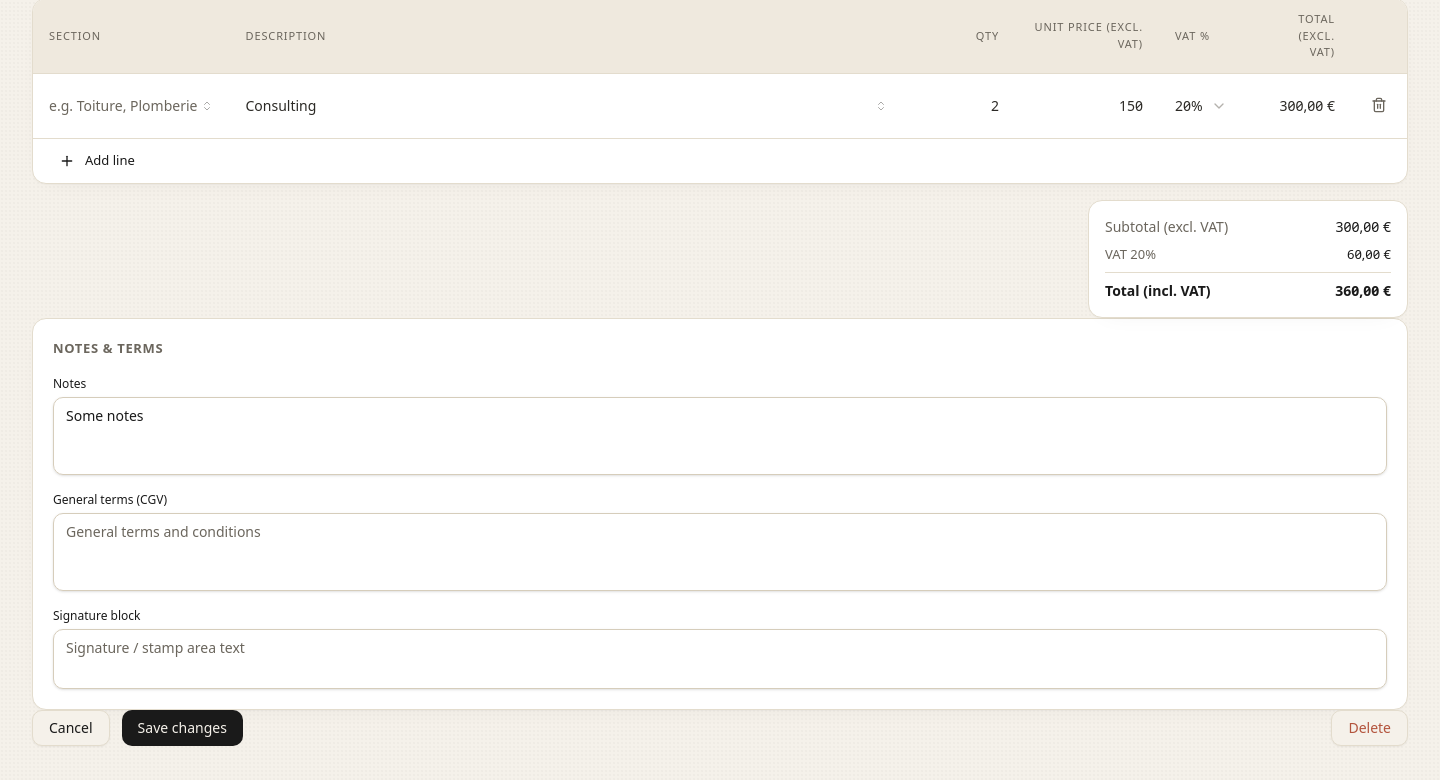
Scenario: test_form_edit_calls_update_with_partial_payload › shows error alert when update returns ok=false
(page scrolled)
Click the button "Save changes" at coordinates (182, 728), box [122,710,243,746]
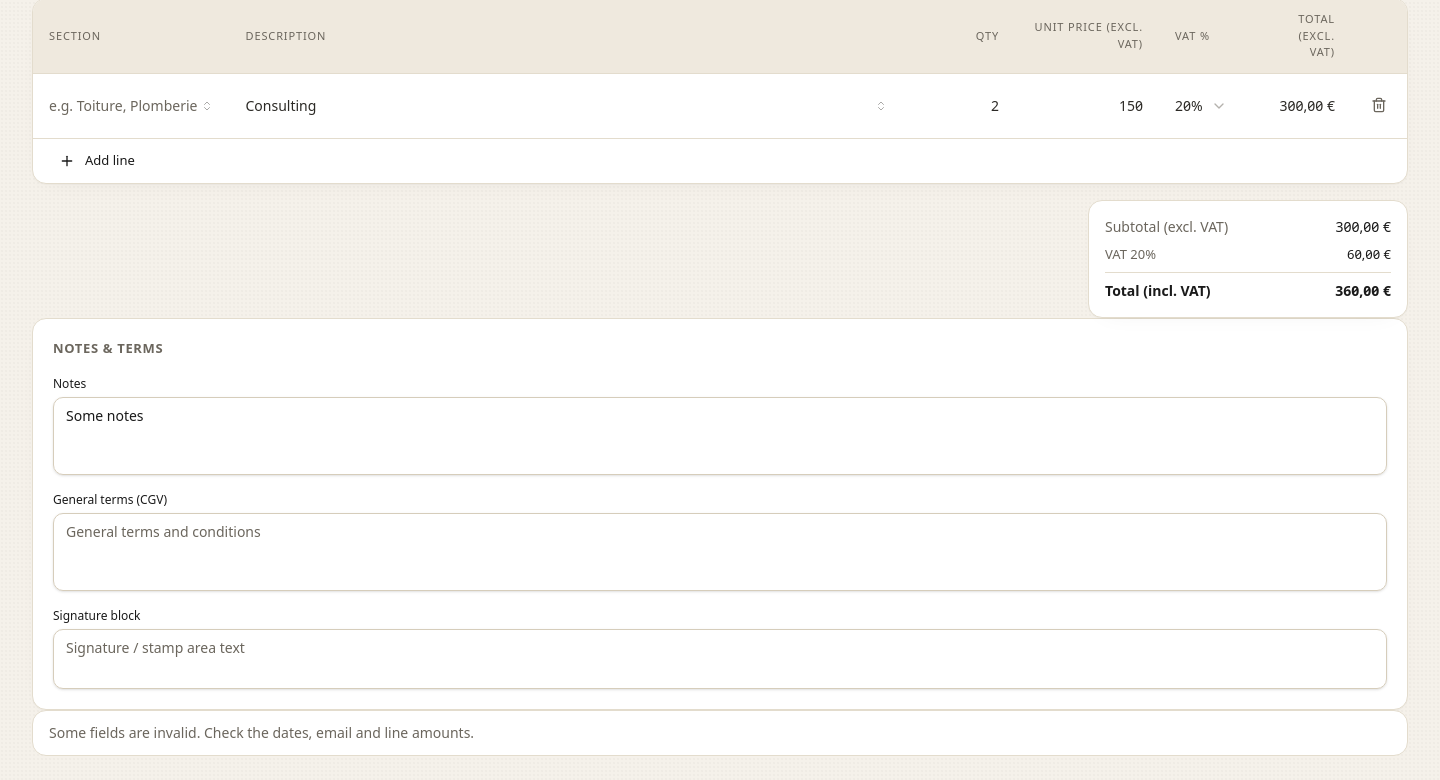
Expected: the text "Some fields are invalid. Check the dates, email and line amounts." is shown, [49,722,474,742]
